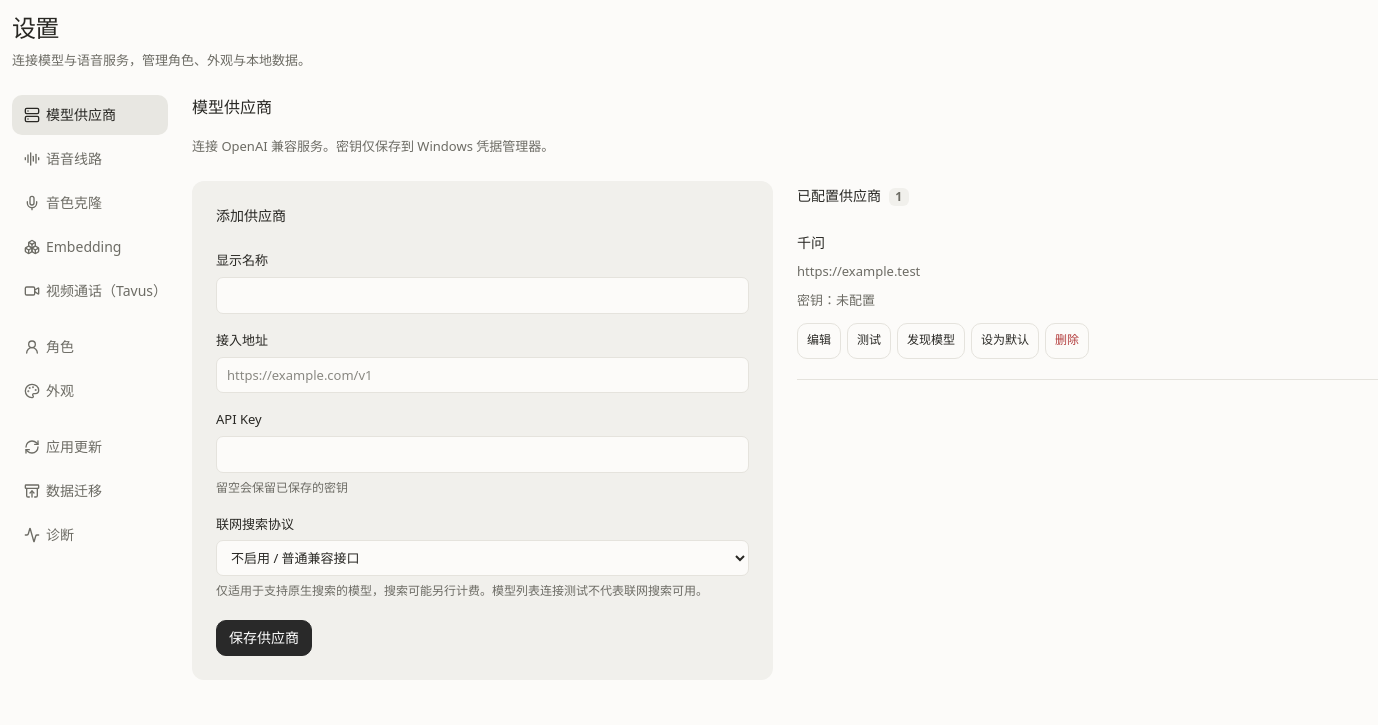
SettingsPage service categories › shows provider references instead of deleting and navigates to the route
The width and height of the screenshot is (1378, 725).
Click the button "删除": x=1067, y=341 [1045,323,1089,359]
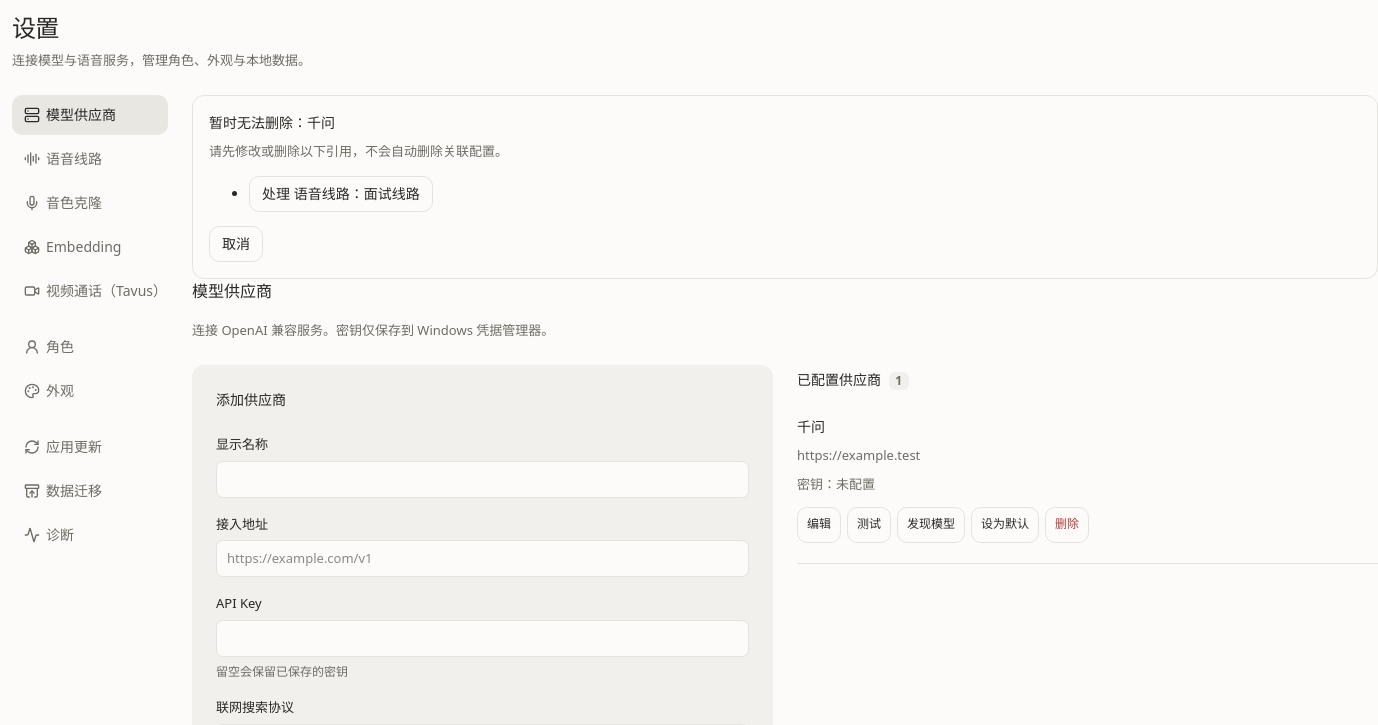
Result: the button "处理 语音线路：面试线路" is shown
Click the button "处理 语音线路：面试线路": x=341, y=194 [249,176,433,212]
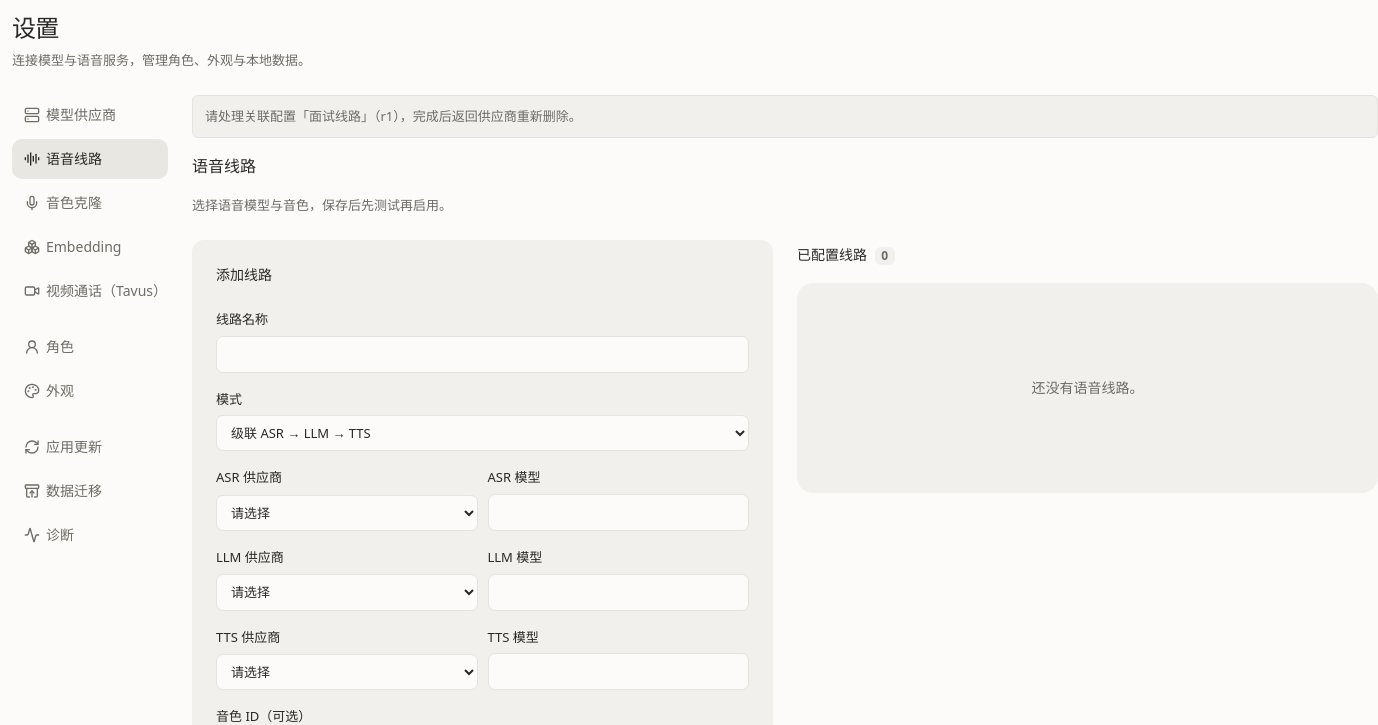
Result: the heading "语音线路" is shown at [192,155,256,177]
